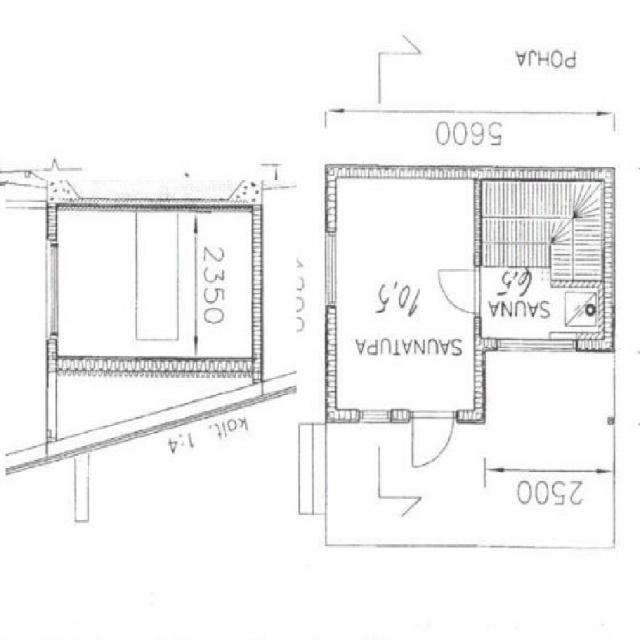door: (412, 411, 454, 466), (438, 269, 480, 313)
